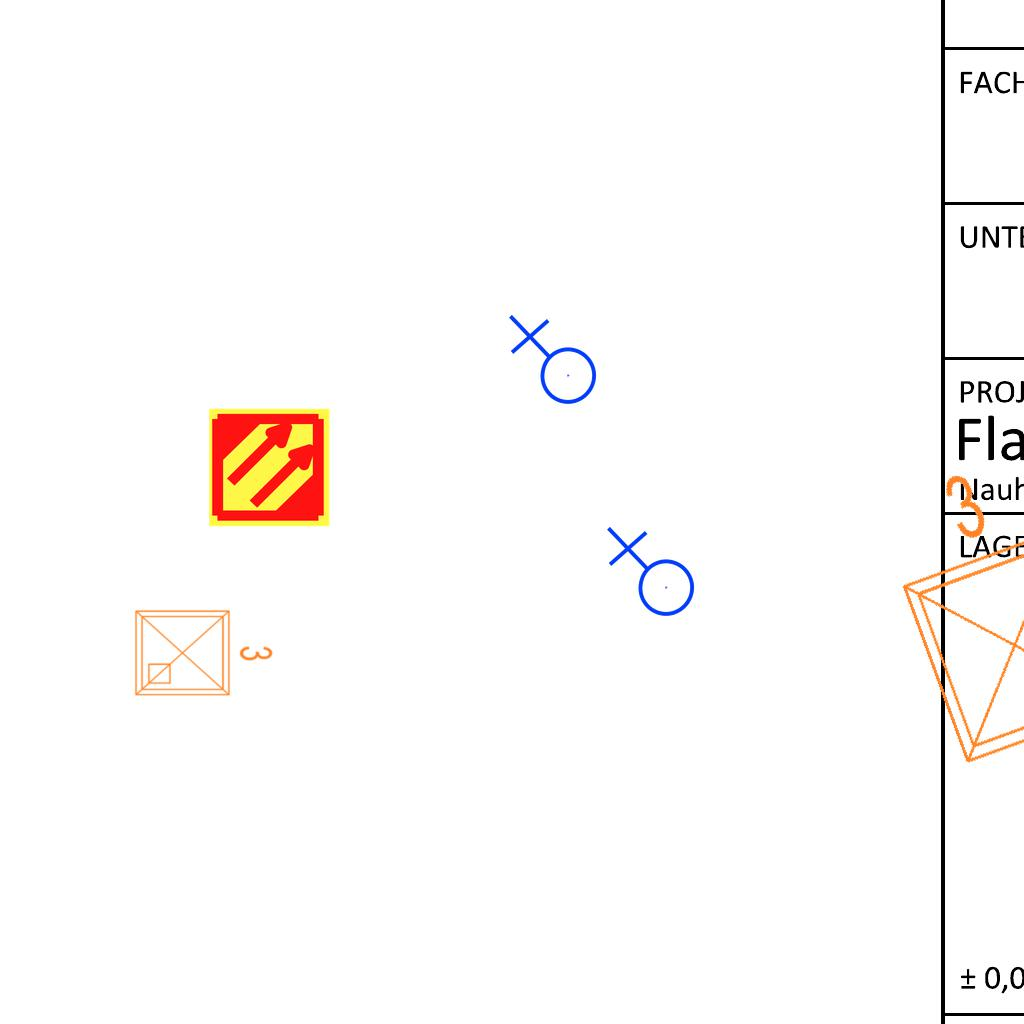ASR_Ansaugrauchmelder: (207, 405, 332, 530)
Einbaudownlights_LED_Konferenzraeume: (847, 431, 1024, 785), (128, 599, 278, 703)
Elektroanschluss_allgemein_230V_Geraeteanschlussdose_230V: (602, 526, 696, 625), (504, 314, 598, 413)
